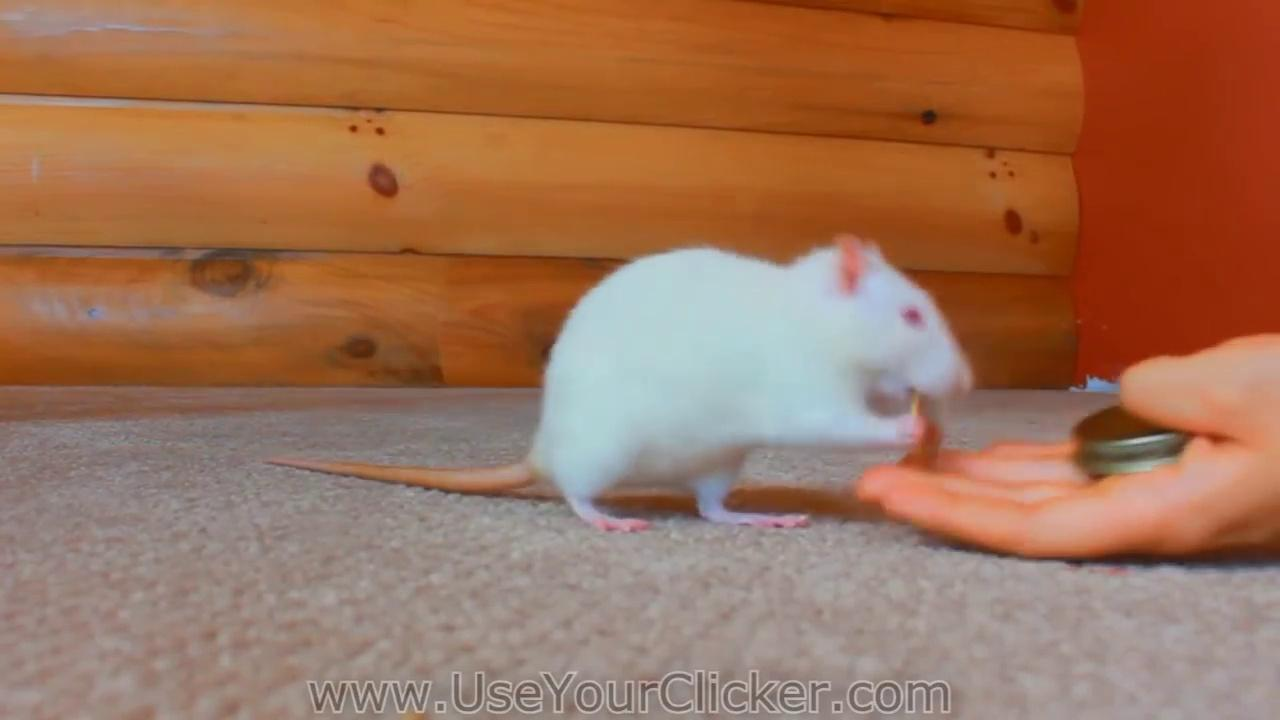rat: (264, 236, 975, 532)
